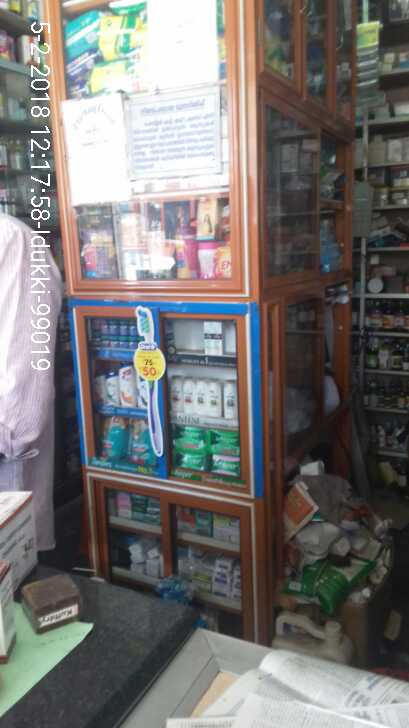vicks: (93, 318, 139, 345)
